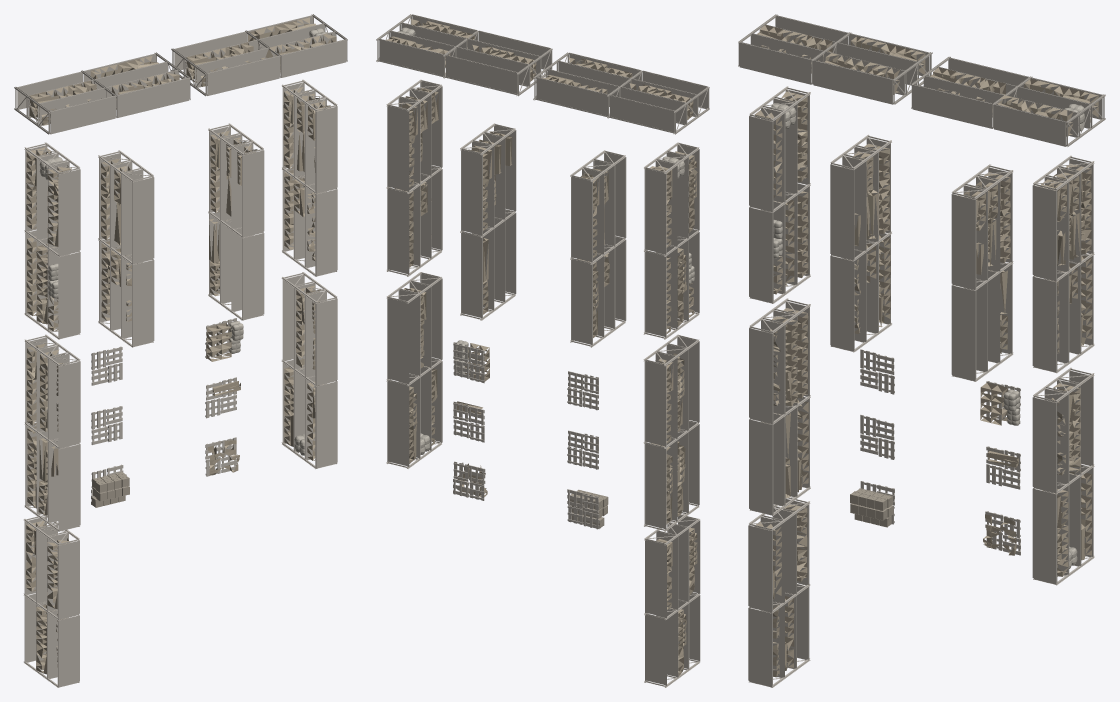
Rendered from warehouse-storage.glb.
3 renders of one model, left to right at view 1: azimuth 30°, elevation 25°; view 2: azimuth 150°, elevation 25°; view 3: azimuth 330°, elevation 25°, orthographic. The views are drawn at different scales.
Parts seen in each view (by area): view 1: 07. lemari, 09. kardus, 10. bungkus, 17. box kayu; view 2: 07. lemari, 09. kardus, 10. bungkus, 17. box kayu; view 3: 07. lemari, 09. kardus, 10. bungkus, 17. box kayu.
Boxes of the visible parts, x1,y1,x2,y2 form: 07. lemari: [14, 14, 347, 687]; 09. kardus: [26, 17, 336, 674]; 10. bungkus: [39, 28, 327, 455]; 17. box kayu: [91, 472, 129, 507]; 07. lemari: [376, 14, 709, 687]; 09. kardus: [386, 19, 697, 676]; 10. bungkus: [398, 27, 694, 454]; 17. box kayu: [570, 489, 608, 528]; 07. lemari: [738, 14, 1105, 687]; 09. kardus: [754, 25, 1098, 677]; 10. bungkus: [767, 103, 1084, 568]; 17. box kayu: [850, 488, 893, 527].
Size of the model in its own units: 16.35 by 30.24 by 3.28.
